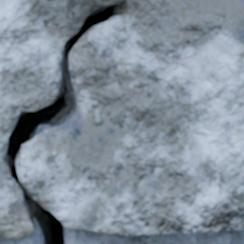broken_brick: (0, 0, 243, 235), (0, 159, 35, 240)
crack: (0, 1, 123, 243)
